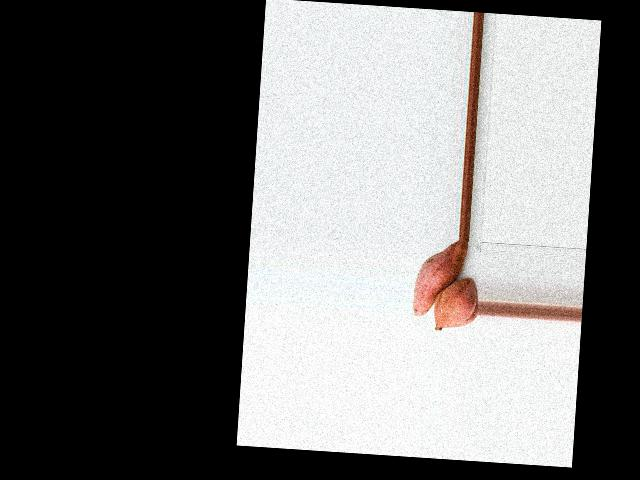sweet_potato: (436, 279, 474, 333)
